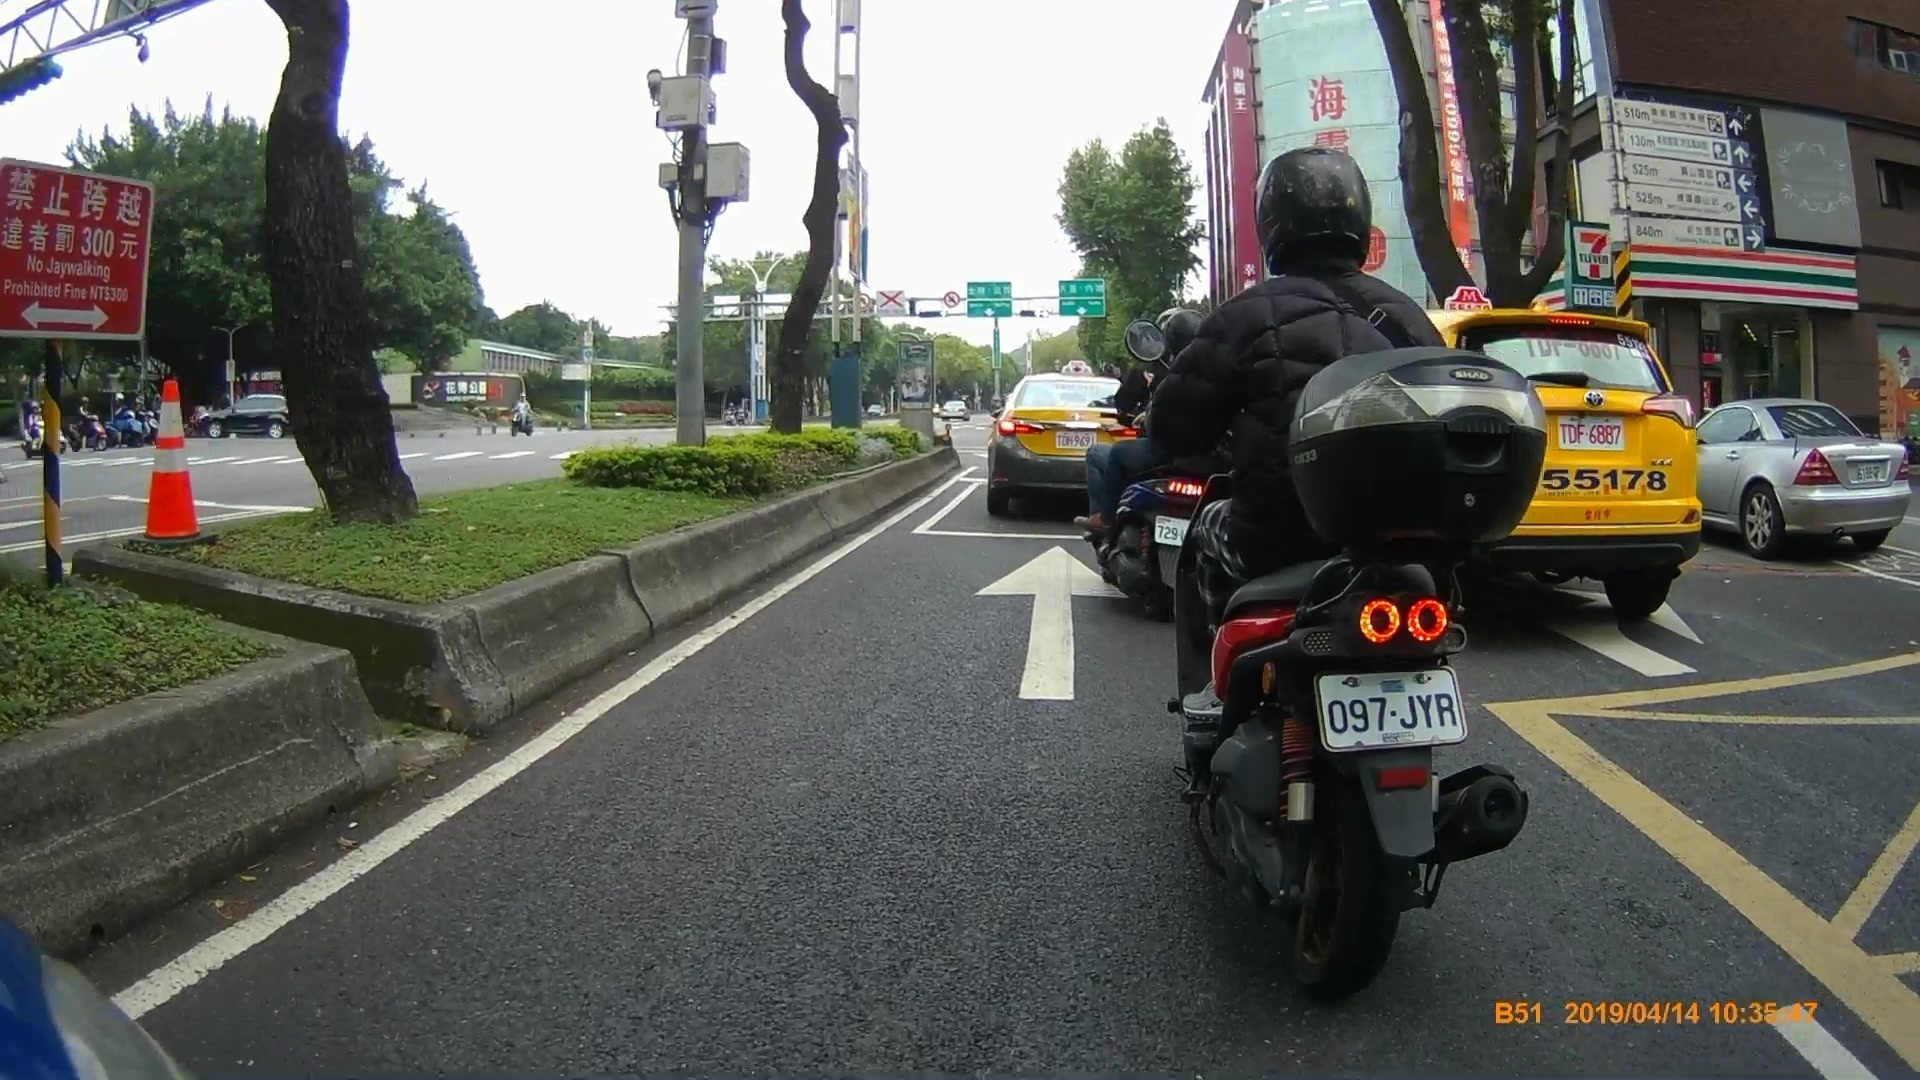License_plate: (1310, 663, 1471, 747), (1557, 415, 1628, 456), (1845, 460, 1893, 486), (1052, 427, 1099, 453)
